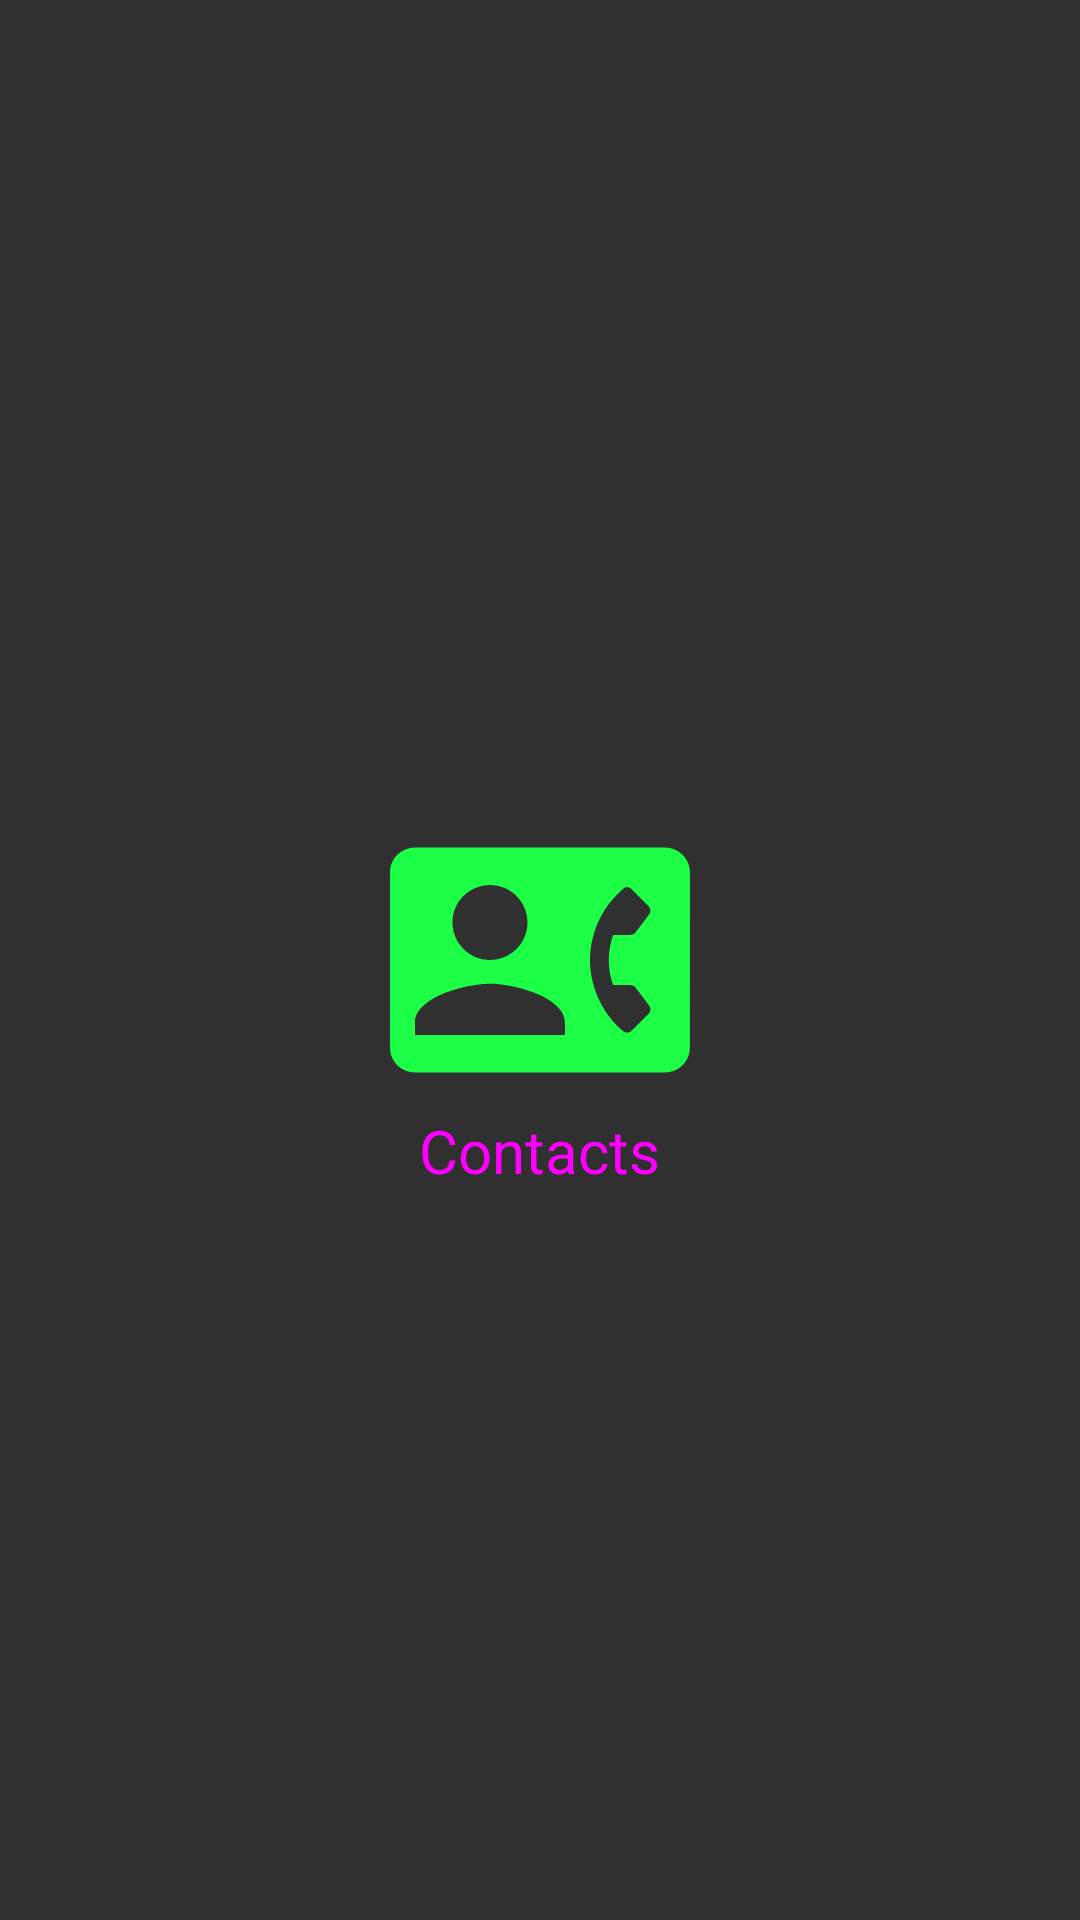

Icons on this 1080*1920 Android screen, each with the point to tap as (x=x, y=y):
contact phone: (x=540, y=960)
